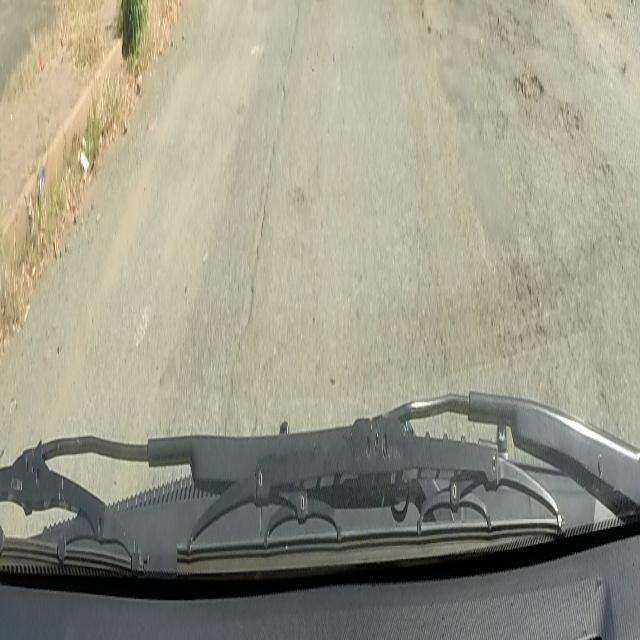pothole: (514, 66, 544, 101)
